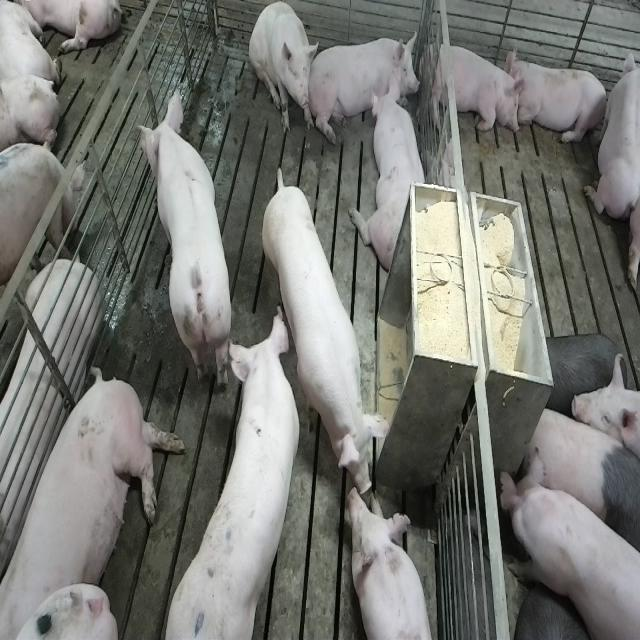Lateral_lying: (5, 363, 187, 636), (0, 259, 102, 577)
Sitting: (250, 3, 318, 138)
Standing: (161, 301, 303, 635), (260, 168, 390, 494), (138, 92, 235, 394), (499, 457, 638, 640), (522, 397, 638, 572), (0, 144, 84, 358)
Sternal_lying: (356, 84, 430, 274), (349, 484, 438, 638), (313, 28, 419, 138), (425, 37, 523, 139), (509, 52, 610, 150), (584, 41, 638, 223)
